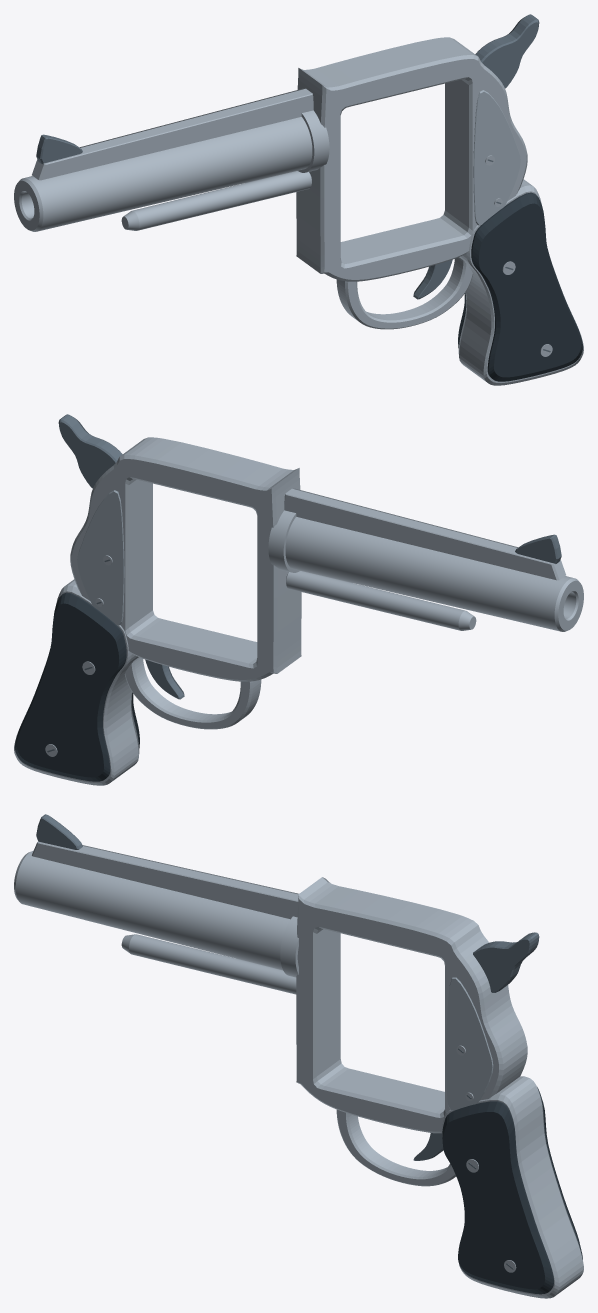
The model's file is body_v01.glb.
3 views of the same model, one above another, from view 1: azimuth 30°, elevation 25°; view 2: azimuth 150°, elevation 25°; view 3: azimuth 330°, elevation 25° (orthographic).
Parts seen in each view (by area): view 1: OpenCylinderFrame, HollowRoundBarrel, BlackRoundedGrip, UpperBarrelRib, RearSidePlate, UnderBarrelHousing, CurvedGripFrame, OpenCurvedTriggerGuard, ExposedCurvedHammer, BarrelCollar, FrontSight, CurvedTrigger; view 2: OpenCylinderFrame, HollowRoundBarrel, BlackRoundedGrip, UpperBarrelRib, RearSidePlate, UnderBarrelHousing, CurvedGripFrame, OpenCurvedTriggerGuard, ExposedCurvedHammer, BarrelCollar, FrontSight, CurvedTrigger; view 3: OpenCylinderFrame, HollowRoundBarrel, BlackRoundedGrip, CurvedGripFrame, UpperBarrelRib, RearSidePlate, UnderBarrelHousing, OpenCurvedTriggerGuard, ExposedCurvedHammer, FrontSight, BarrelCollar.
Boxes of the visible parts, bbox=[...] form: OpenCylinderFrame: bbox=[296, 37, 527, 281]; HollowRoundBarrel: bbox=[14, 117, 312, 231]; BlackRoundedGrip: bbox=[458, 192, 582, 381]; UpperBarrelRib: bbox=[32, 88, 313, 180]; RearSidePlate: bbox=[473, 90, 520, 225]; UnderBarrelHousing: bbox=[121, 171, 311, 230]; CurvedGripFrame: bbox=[458, 179, 583, 385]; OpenCurvedTriggerGuard: bbox=[336, 257, 473, 329]; ExposedCurvedHammer: bbox=[475, 14, 539, 88]; BarrelCollar: bbox=[298, 110, 329, 172]; FrontSight: bbox=[36, 134, 82, 163]; CurvedTrigger: bbox=[413, 259, 452, 299]; OpenCylinderFrame: bbox=[70, 437, 301, 681]; HollowRoundBarrel: bbox=[285, 517, 583, 631]; BlackRoundedGrip: bbox=[15, 592, 139, 781]; UpperBarrelRib: bbox=[284, 488, 565, 580]; RearSidePlate: bbox=[77, 490, 124, 625]; UnderBarrelHousing: bbox=[286, 571, 476, 630]; CurvedGripFrame: bbox=[14, 579, 139, 785]; OpenCurvedTriggerGuard: bbox=[124, 657, 261, 729]; ExposedCurvedHammer: bbox=[58, 414, 122, 488]; BarrelCollar: bbox=[268, 510, 299, 572]; FrontSight: bbox=[515, 534, 561, 563]; CurvedTrigger: bbox=[145, 659, 184, 699]; OpenCylinderFrame: bbox=[296, 877, 527, 1133]; HollowRoundBarrel: bbox=[14, 850, 290, 970]; BlackRoundedGrip: bbox=[442, 1087, 582, 1294]; CurvedGripFrame: bbox=[442, 1076, 583, 1298]; UpperBarrelRib: bbox=[32, 841, 298, 919]; RearSidePlate: bbox=[446, 977, 493, 1110]; UnderBarrelHousing: bbox=[121, 934, 296, 994]; OpenCurvedTriggerGuard: bbox=[336, 1110, 456, 1186]; ExposedCurvedHammer: bbox=[473, 932, 539, 992]; FrontSight: bbox=[36, 814, 82, 849]; BarrelCollar: bbox=[280, 916, 298, 977].
Size of the model in its own units: 7.87 by 4.84 by 0.929.
